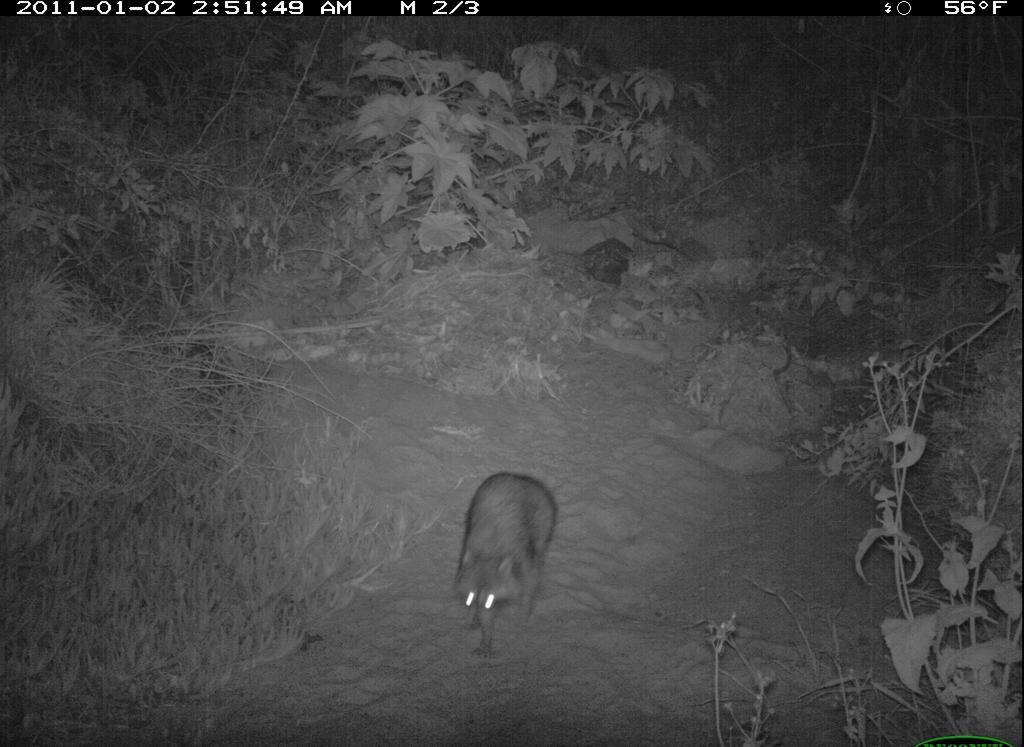raccoon: (454, 464, 555, 661)
